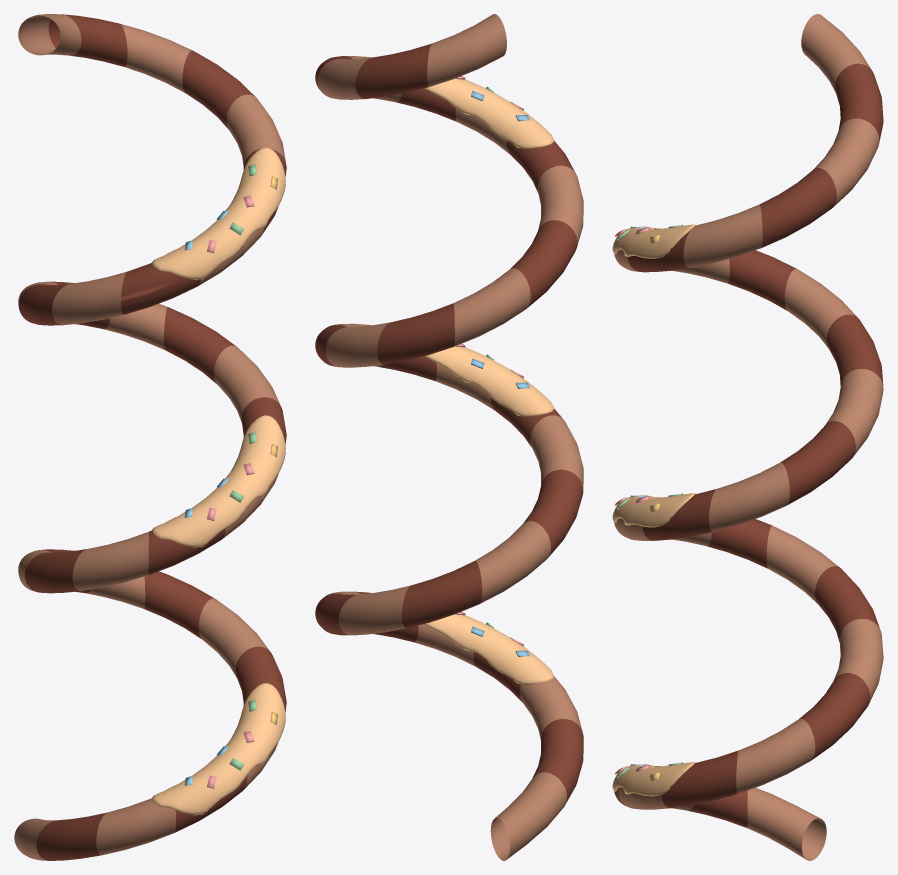
Rendered from spiral.fbx.
3 views of the same model, side by side, from view 1: azimuth 30°, elevation 25°; view 2: azimuth 150°, elevation 25°; view 3: azimuth 270°, elevation 25° (orthographic).
Parts seen in each view (by area): view 1: spiralCream.007; view 2: spiralCream.007; view 3: spiralCream.007.
Part boxes in pixels (box(x1,y1,x2,y2)): spiralCream.007: box(14, 14, 286, 860); spiralCream.007: box(315, 14, 583, 860); spiralCream.007: box(612, 14, 883, 860).
Bounding box in the file's own units: 1215 × 4209 × 1223.
